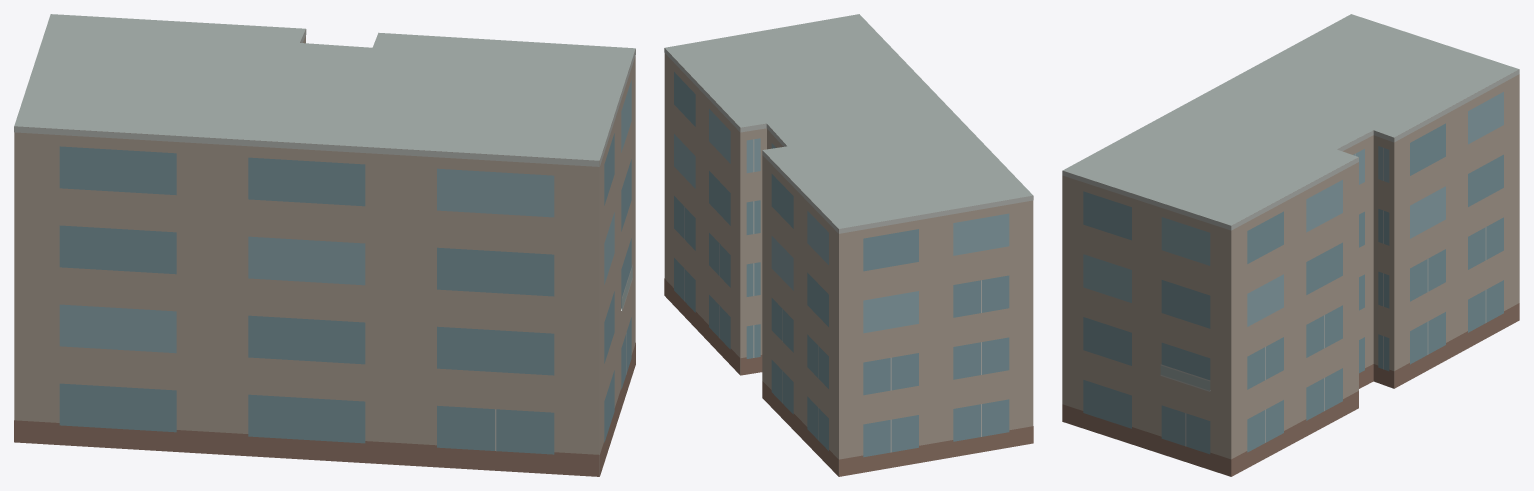
Rendered from survey-upis-33015853.glb.
The picture shows the model from 3 angles, left to right: view 1: azimuth 30°, elevation 25°; view 2: azimuth 150°, elevation 25°; view 3: azimuth 270°, elevation 25°; orthographic projection. The views are drawn at different scales.
Visible parts, largest first — view 1: survey-upis-33015853.tmp; view 2: survey-upis-33015853.tmp; view 3: survey-upis-33015853.tmp.
Boxes of the visible parts, x1,y1,x2,y2 form: survey-upis-33015853.tmp: (14, 14, 635, 476); survey-upis-33015853.tmp: (664, 14, 1033, 476); survey-upis-33015853.tmp: (1062, 14, 1519, 476).
Bounding box in the file's own units: 22.61 × 12.5 × 20.62.
